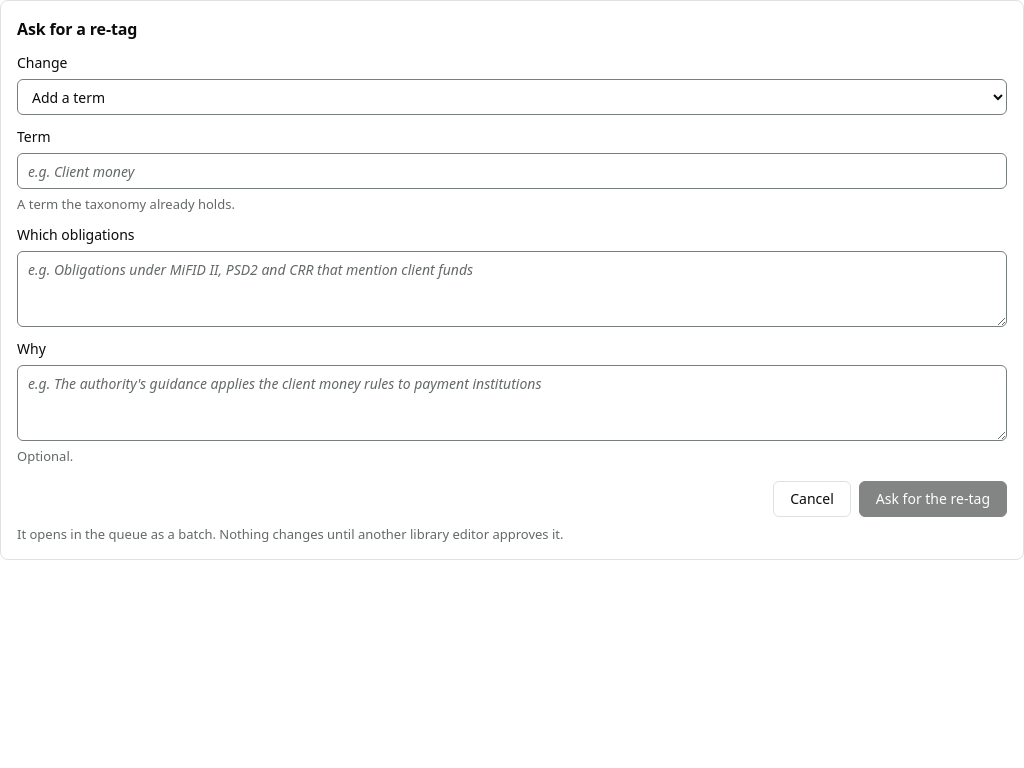
Test case: asking for a re-tag › offers the term the taxonomy holds for a near miss, and uses it on a click
Expected: the button "Ask for the re-tag" is disabled, [859,481,1007,517]
Type "client monies" into the field labelled "Term" at (512, 171), box [17,153,1007,189]
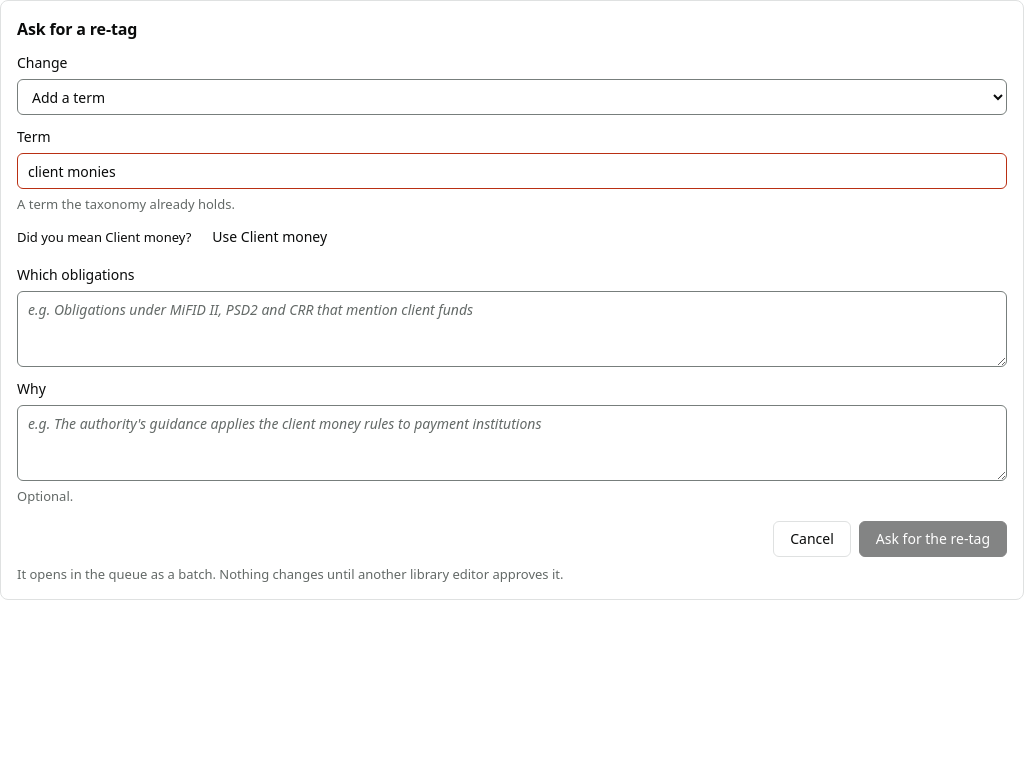
Expected: the text "Did you mean Client money?" is shown, [17,228,191,246]
Click the button "Use Client money" at (270, 237), box [199,221,340,253]
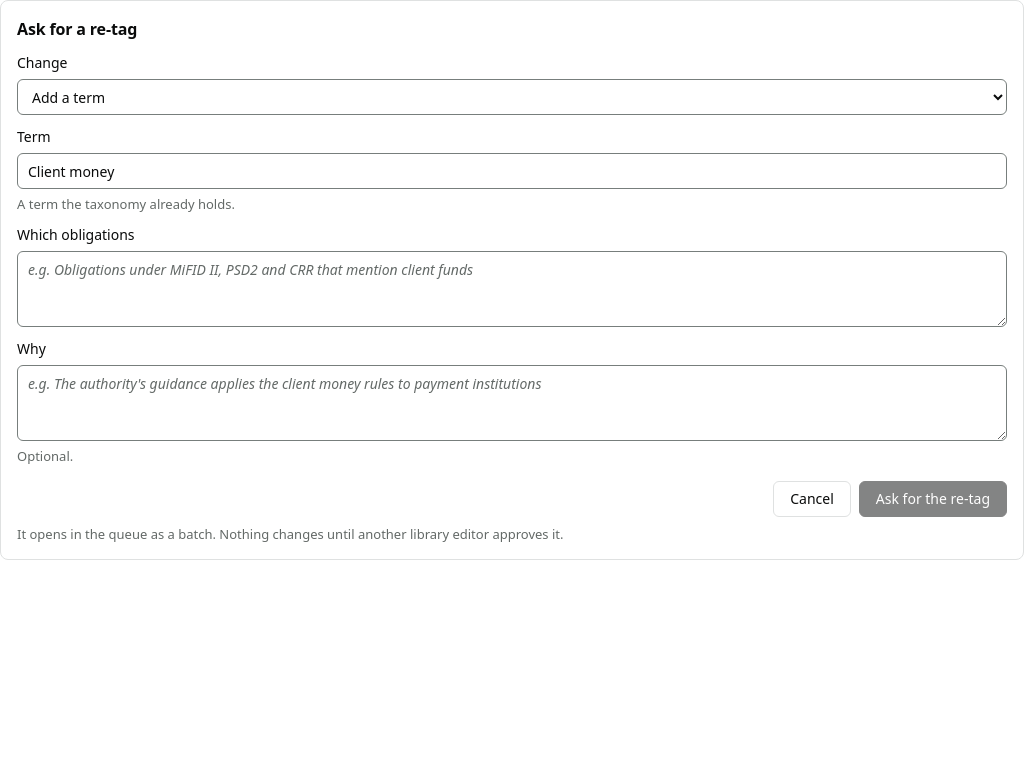
Expected: the field labelled "Term" holds "Client money", [17,153,1007,189]
Expected: the text "Did you mean Client money?" is gone
